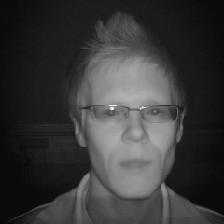happy: (56, 15, 197, 211)
